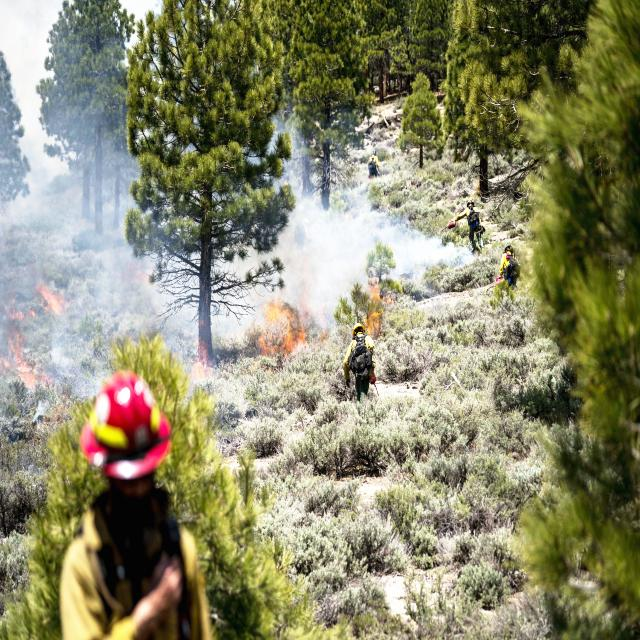api: (263, 296, 311, 360), (7, 339, 60, 393), (366, 276, 390, 345), (37, 283, 76, 317)
asap: (266, 111, 484, 305)
